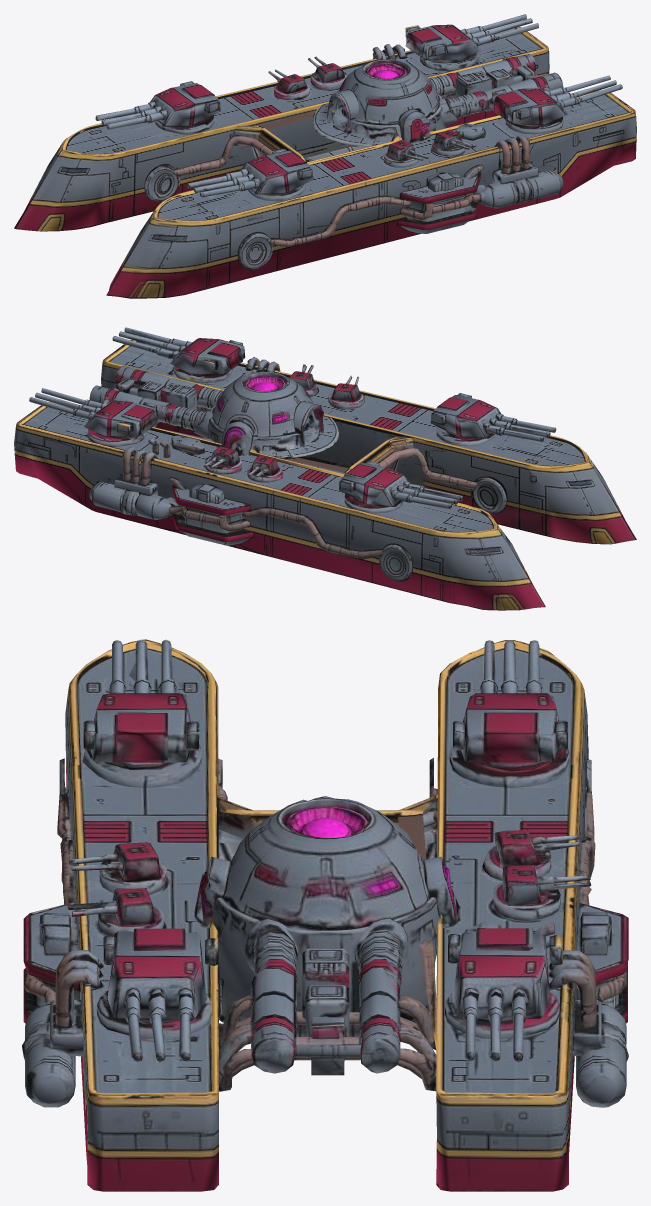
Rendered from souen.glb.
3 renders of one model, top to bottom at view 1: azimuth 30°, elevation 25°; view 2: azimuth 150°, elevation 25°; view 3: azimuth 270°, elevation 25°, orthographic. The views are drawn at different scales.
Size of the model in its own units: 0.9575 by 0.1978 by 0.4844.
Materials: 1 (1 with a texture image).
